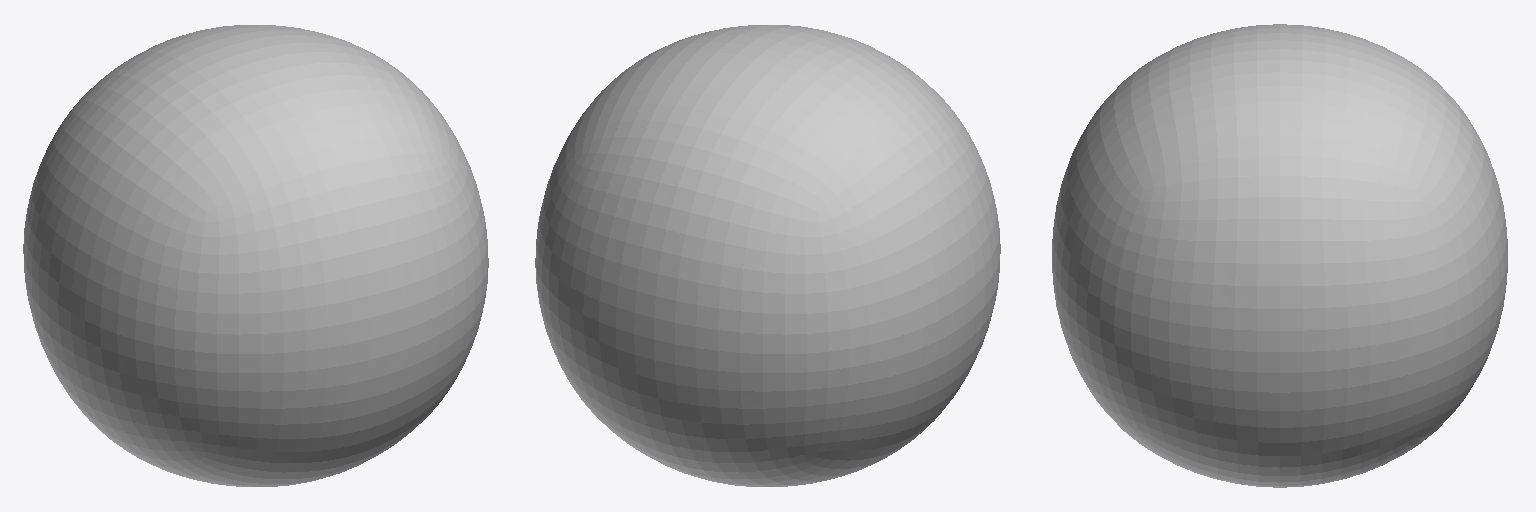
The model's file is water.obj.
3 views of the same model, side by side, from view 1: azimuth 30°, elevation 25°; view 2: azimuth 150°, elevation 25°; view 3: azimuth 270°, elevation 25° (orthographic).
Parts seen in each view (by area): view 1: Cube_Cube.001; view 2: Cube_Cube.001; view 3: Cube_Cube.001.
Part boxes in pixels (x1,y1,x2,y2): Cube_Cube.001: (23,25,488,486); Cube_Cube.001: (535,25,1000,486); Cube_Cube.001: (1052,24,1507,487).
Size of the model in its own units: 8 by 8 by 8.